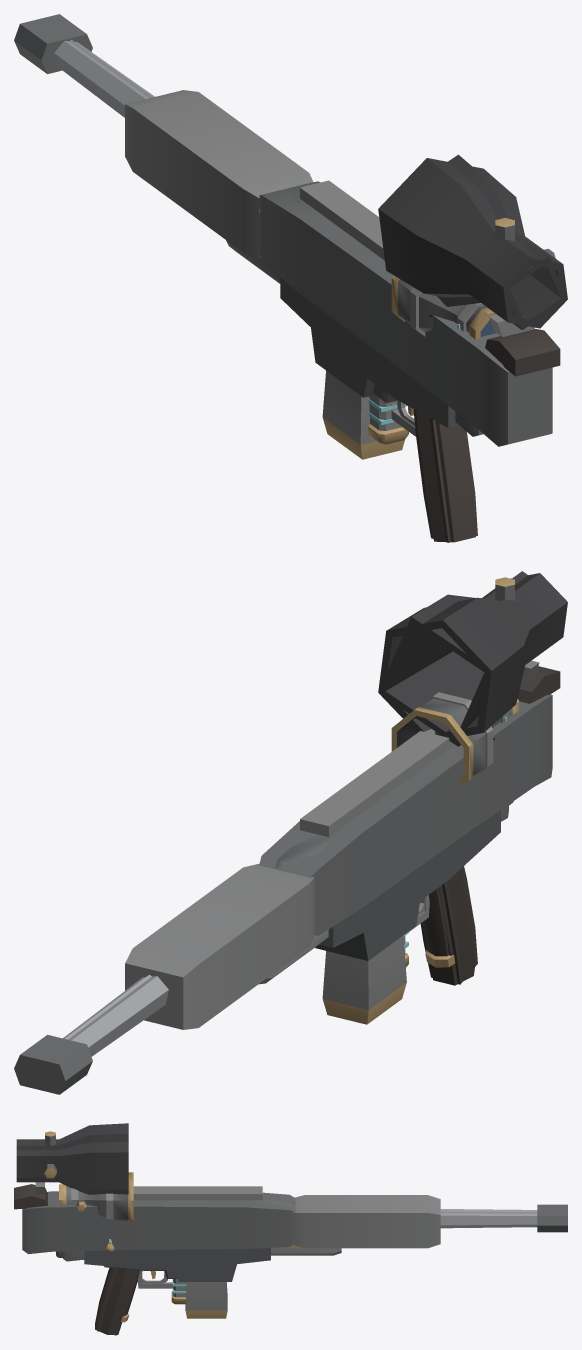
Rendered from sagittarii_rifle.glb.
The picture shows the model from 3 angles, top to bottom: view 1: azimuth 30°, elevation 25°; view 2: azimuth 150°, elevation 25°; view 3: azimuth 270°, elevation 25°; orthographic projection. The views are drawn at different scales.
Parts seen in each view (by area): view 1: ThirdFar, ThirdNear, Mesh, Cell; view 2: ThirdFar, ThirdNear, Mesh; view 3: ThirdFar, ThirdNear, Mesh, Cell.
Boxes of the visible parts, left/top/right/bottom form: ThirdFar: left=14, top=14, right=567, bottom=542; ThirdNear: left=54, top=41, right=567, bottom=542; Mesh: left=226, top=240, right=496, bottom=436; Cell: left=368, top=395, right=408, bottom=444; ThirdFar: left=14, top=571, right=552, bottom=1094; ThirdNear: left=63, top=573, right=567, bottom=1056; Mesh: left=259, top=692, right=519, bottom=984; ThirdFar: left=16, top=1134, right=567, bottom=1335; ThirdNear: left=14, top=1123, right=537, bottom=1334; Mesh: left=56, top=1172, right=341, bottom=1322; Cell: left=171, top=1279, right=186, bottom=1304.
Size of the model in its own units: 0.1289 by 0.4031 by 0.9795.
